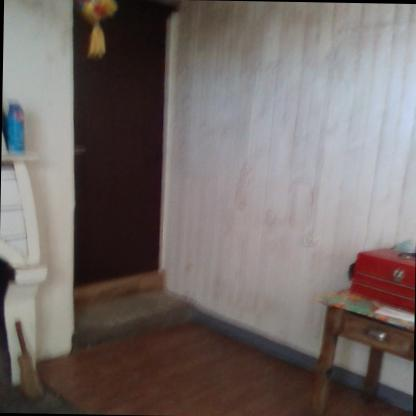closed: (44, 0, 191, 296)
